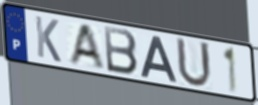1: (222, 45, 239, 97)
A: (139, 34, 179, 84), (66, 23, 106, 69)
B: (102, 24, 140, 77)
K: (33, 14, 63, 65)
U: (174, 35, 214, 90)
